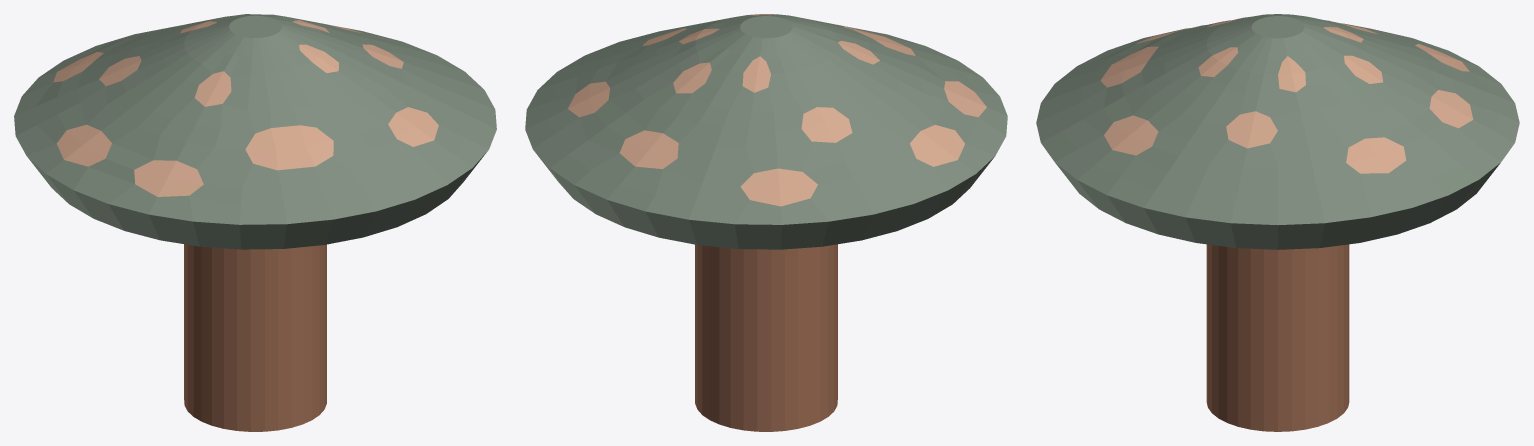
File: mushroom_2_garden.fbx
The picture shows the model from 3 angles, left to right: view 1: azimuth 30°, elevation 25°; view 2: azimuth 150°, elevation 25°; view 3: azimuth 270°, elevation 25°; orthographic projection.
Visible parts, largest first — view 1: mushroom_2_garden, Cylinder.047, Cylinder.002; view 2: mushroom_2_garden, Cylinder.047, Cylinder.002; view 3: mushroom_2_garden, Cylinder.047, Cylinder.002.
Part boxes in pixels (bbox=[...]): mushroom_2_garden: bbox=[14, 14, 496, 249]; Cylinder.047: bbox=[184, 244, 326, 431]; Cylinder.002: bbox=[53, 20, 438, 196]; mushroom_2_garden: bbox=[525, 14, 1007, 249]; Cylinder.047: bbox=[695, 244, 837, 431]; Cylinder.002: bbox=[567, 14, 986, 206]; mushroom_2_garden: bbox=[1036, 14, 1519, 249]; Cylinder.047: bbox=[1206, 244, 1349, 431]; Cylinder.002: bbox=[1100, 18, 1473, 173].
Size of the model in its own units: 33.4 by 28.55 by 33.4.
